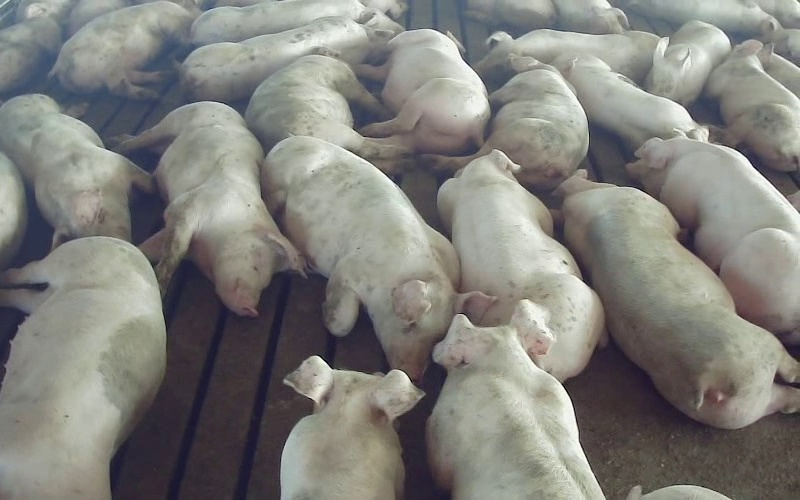pig: (557, 170, 799, 428), (262, 136, 493, 380), (0, 237, 165, 499), (116, 102, 304, 315), (628, 133, 799, 344), (427, 300, 604, 499), (422, 56, 588, 189), (280, 356, 423, 499), (245, 55, 405, 173), (180, 17, 393, 102), (357, 29, 489, 154), (556, 55, 707, 149), (50, 0, 194, 98), (705, 40, 799, 171), (474, 29, 660, 83), (645, 20, 730, 105)
